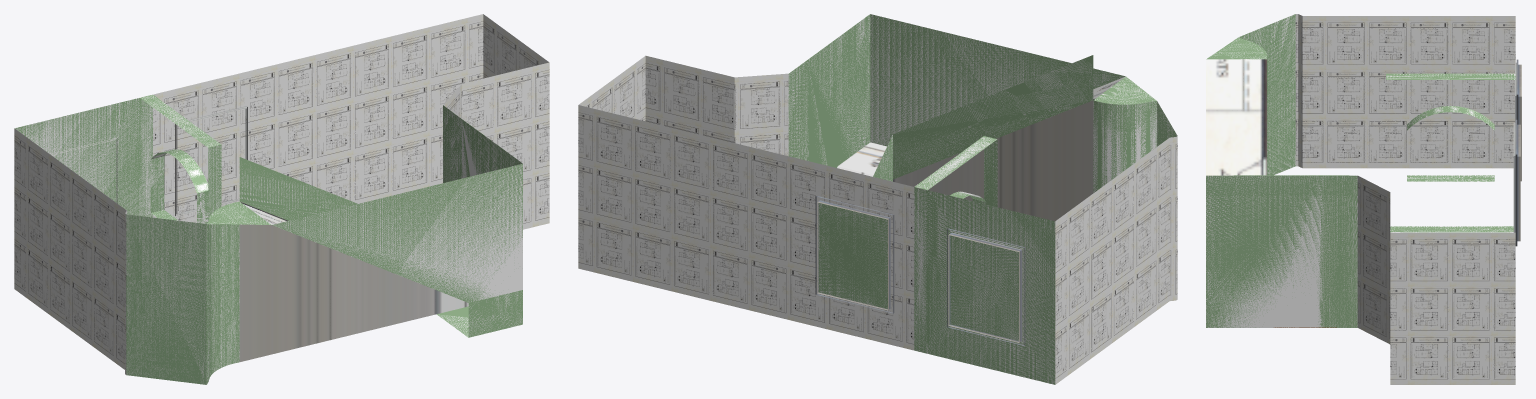
Rendered from Loft_Tmp.fbx.
3 renders of one model, left to right at view 1: azimuth 30°, elevation 25°; view 2: azimuth 150°, elevation 25°; view 3: azimuth 270°, elevation 25°, orthographic. The views are drawn at different scales.
Parts seen in each view (by area): view 1: ID99, ID164, ID85, ID91, ID148, SketchUp, ID142; view 2: ID99, ID164, ID91, SketchUp, ID148, ID67, ID73, ID85, instance_0, instance_1, ID49, ID24; view 3: ID91, ID99, ID164, ID148, ID85, SketchUp, ID142, instance_1, ID49, instance_0, ID41.
Boxes of the visible parts, <box> form: ID99: <box>153,14,549,229</box>; ID164: <box>239,105,522,337</box>; ID85: <box>126,201,270,384</box>; ID91: <box>14,128,126,374</box>; ID148: <box>239,202,468,361</box>; SketchUp: <box>15,94,221,221</box>; ID142: <box>150,149,208,223</box>; ID99: <box>578,55,914,350</box>; ID164: <box>788,14,1125,181</box>; ID91: <box>1055,136,1177,384</box>; SketchUp: <box>914,136,1055,384</box>; ID148: <box>837,76,1125,221</box>; ID67: <box>818,203,887,308</box>; ID73: <box>950,235,1018,340</box>; ID85: <box>1093,76,1177,192</box>; instance_0: <box>948,232,1022,342</box>; instance_1: <box>817,200,890,310</box>; ID49: <box>815,196,894,313</box>; ID24: <box>947,228,1025,345</box>; ID91: <box>1295,14,1515,168</box>; ID99: <box>1357,176,1515,384</box>; ID164: <box>1206,175,1357,327</box>; ID148: <box>1206,59,1266,175</box>; ID85: <box>1206,14,1295,175</box>; SketchUp: <box>1386,73,1515,232</box>; ID142: <box>1407,106,1494,181</box>; instance_1: <box>1517,124,1520,241</box>; ID49: <box>1515,119,1517,246</box>; instance_0: <box>1518,64,1521,181</box>; ID41: <box>1513,122,1515,232</box>.
Size of what is drawn, in the model's own units: 2181 by 1331 by 906.
